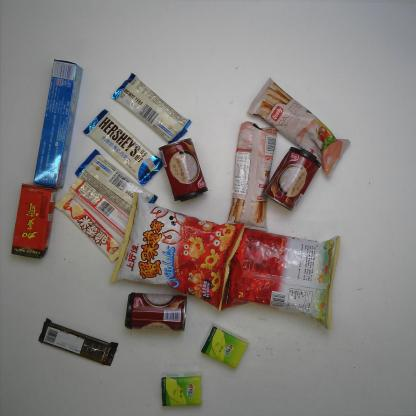Canned Food: (262, 144, 323, 212), (156, 136, 209, 203), (121, 289, 190, 334)
Chocolate: (81, 108, 167, 185), (110, 72, 193, 148), (76, 149, 160, 220), (52, 189, 129, 264), (68, 173, 148, 245), (36, 317, 119, 366)
Dessert: (247, 76, 352, 177), (225, 118, 279, 234)
Drink: (10, 181, 58, 256)
Personal Hygiene: (32, 57, 83, 190)
Puffed Food: (109, 190, 248, 312), (209, 217, 344, 333)
Tissue: (198, 324, 250, 372), (161, 370, 204, 408)
